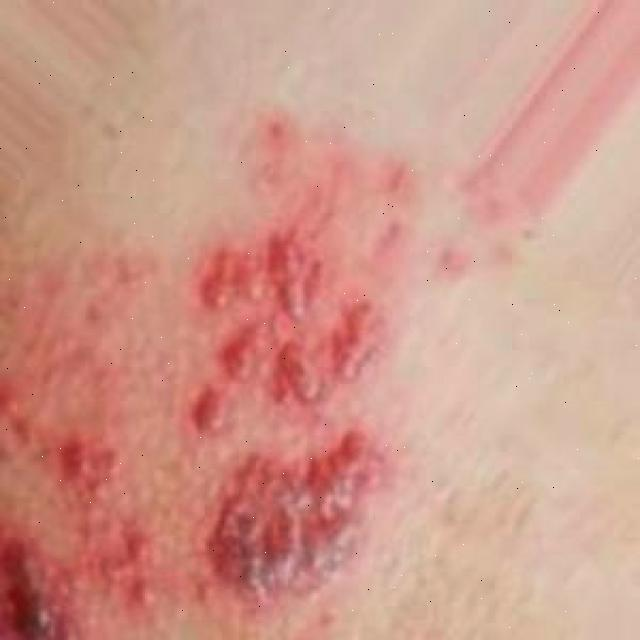Shingles: (0, 233, 382, 636)
